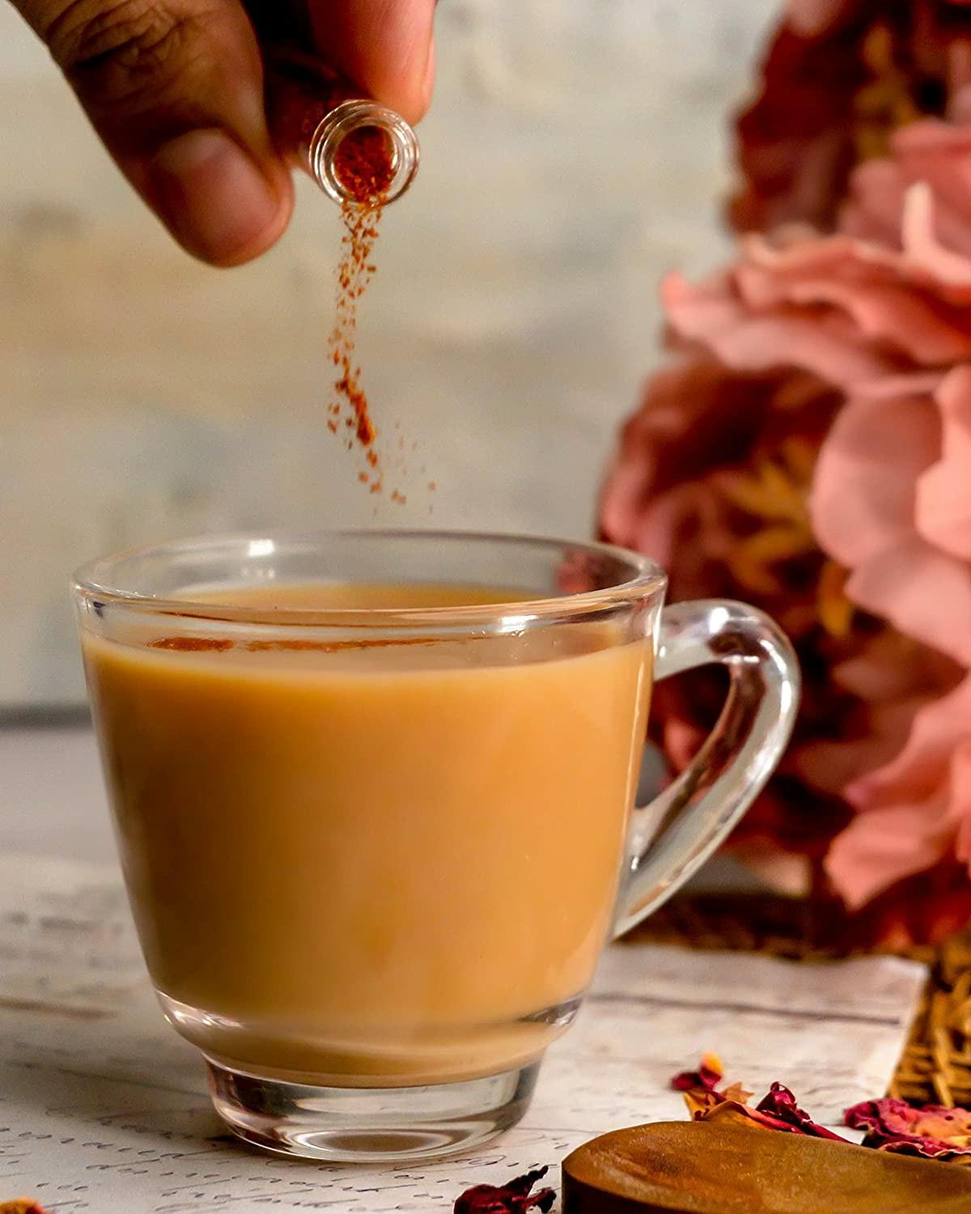Chai: (82, 578, 653, 1087)
